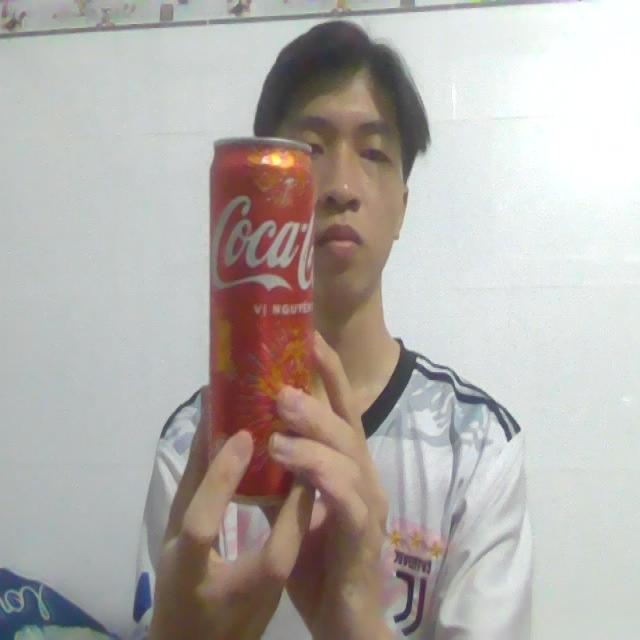cocacola: (191, 132, 328, 510)
